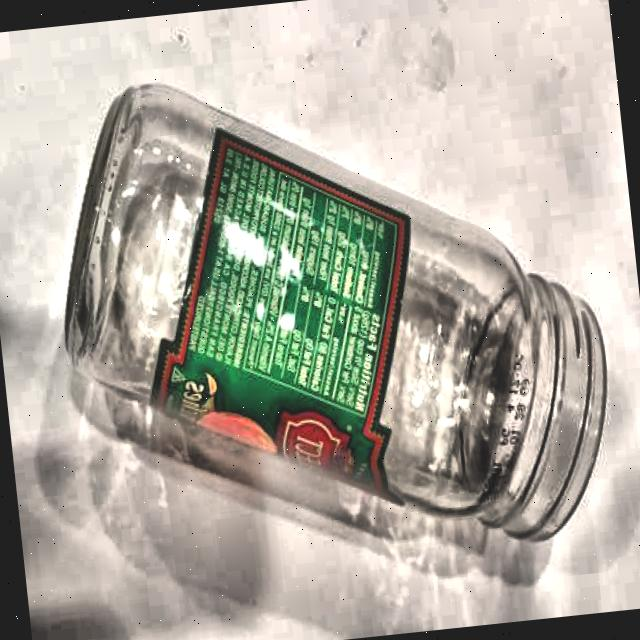glass: (41, 38, 621, 595)
